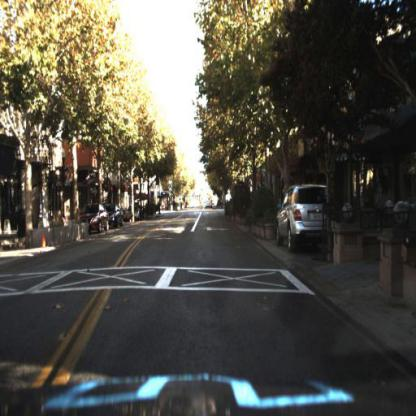car: (273, 179, 335, 257), (78, 204, 109, 235), (107, 201, 125, 230), (126, 205, 140, 224)
